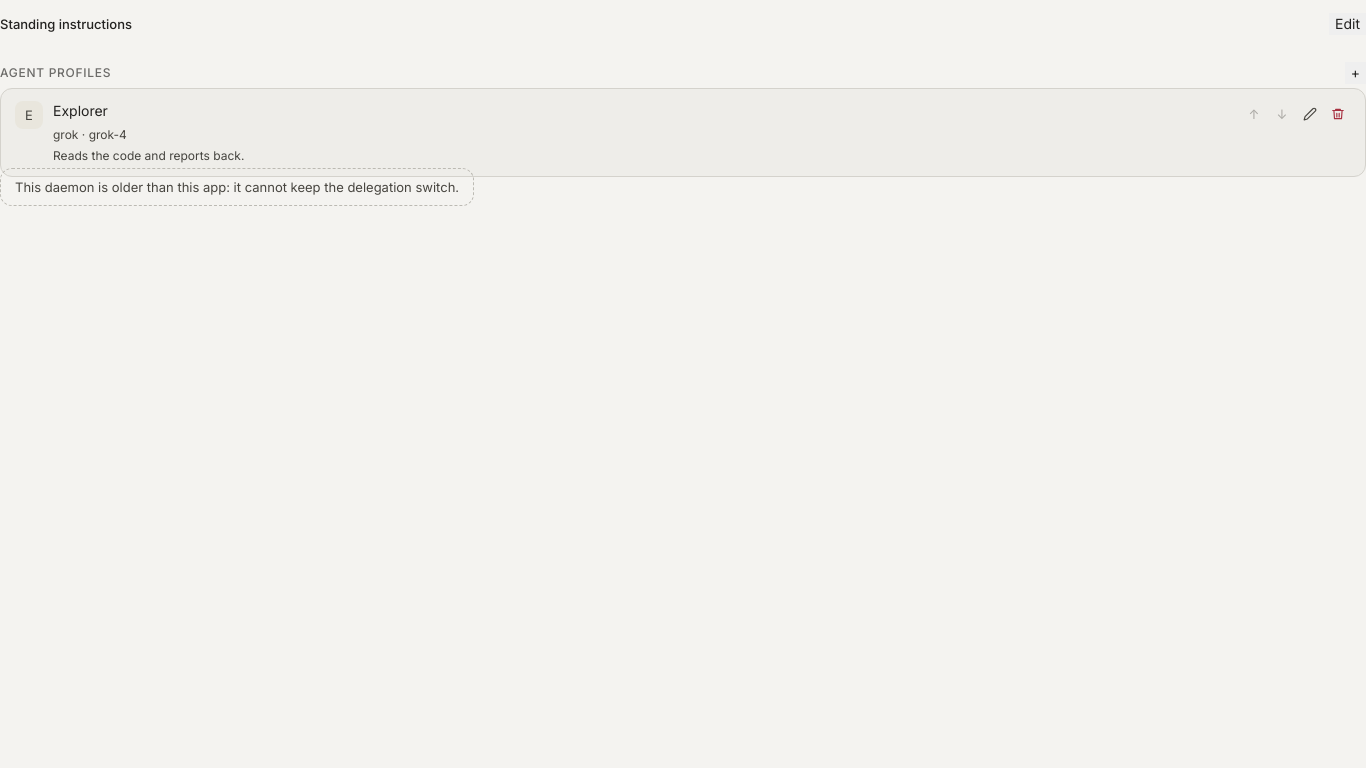
Scenario: Settings agents panel — the profile dialog › holds the panel dialog's Escape behind the discard check when dirty
Click the button named "Edit Explorer". click: (1310,114)
box: [1297,101,1323,127]
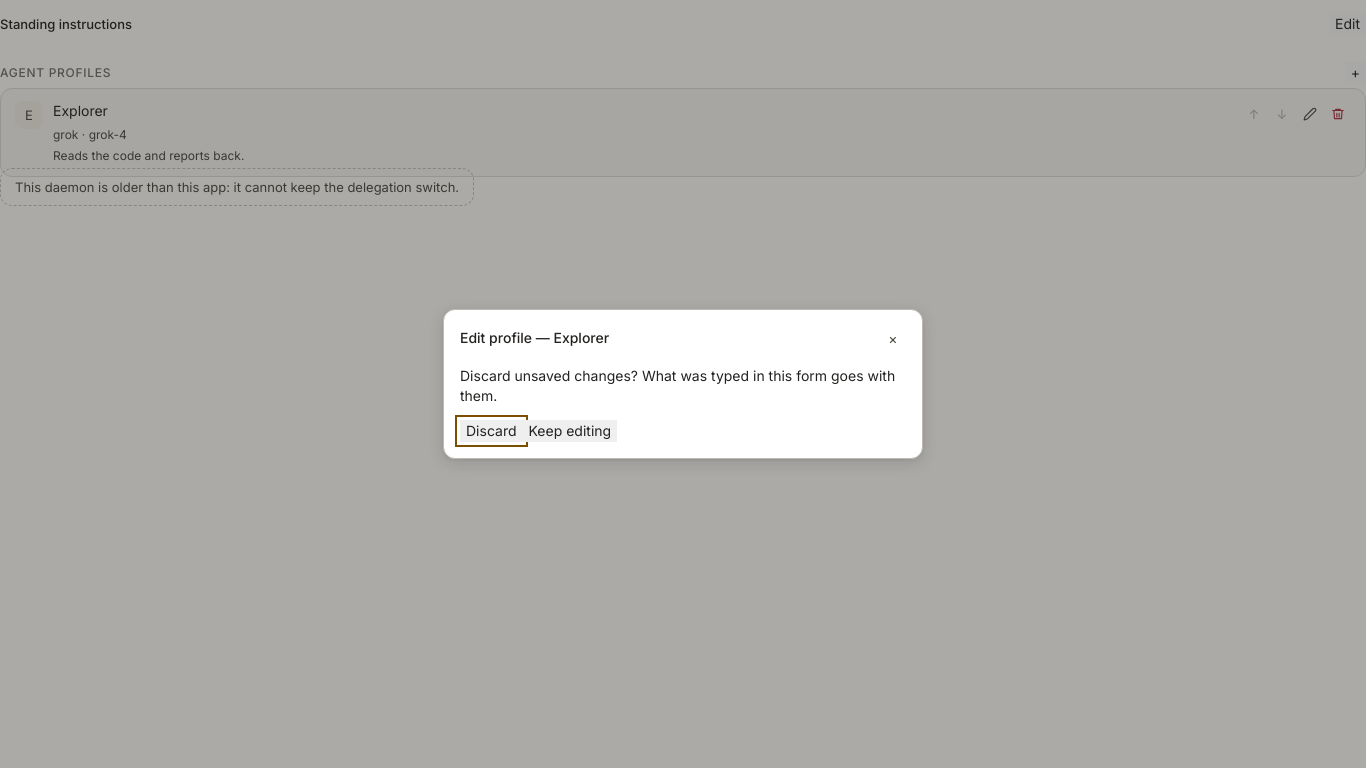
Expected: the element with class "edit-scrim" is shown
Expected: the text "Discard unsaved changes?" is shown, [460,366,895,404]
Click the button "Discard". click: (491,431)
box: [460,420,522,442]
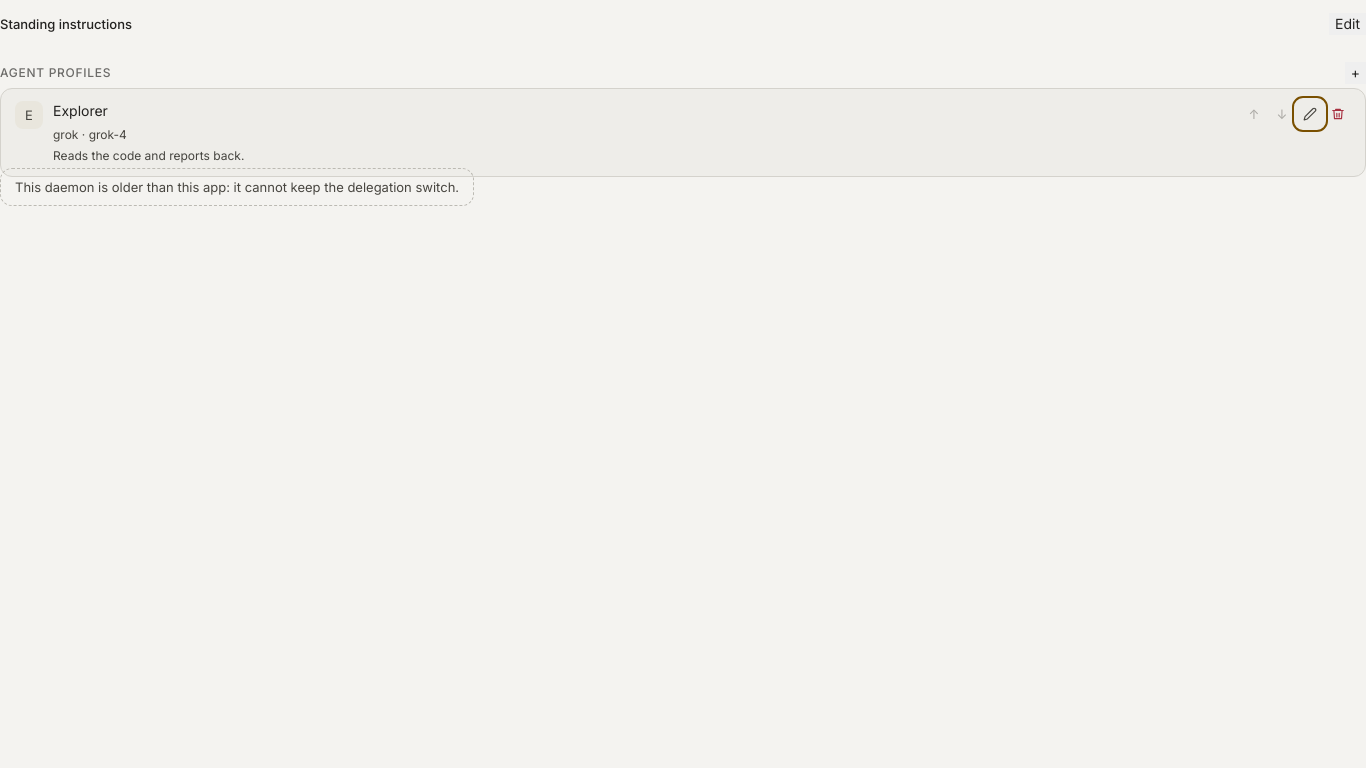
Expected: the element with class "edit-scrim" is gone
